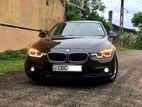car: (19, 16, 122, 89)
